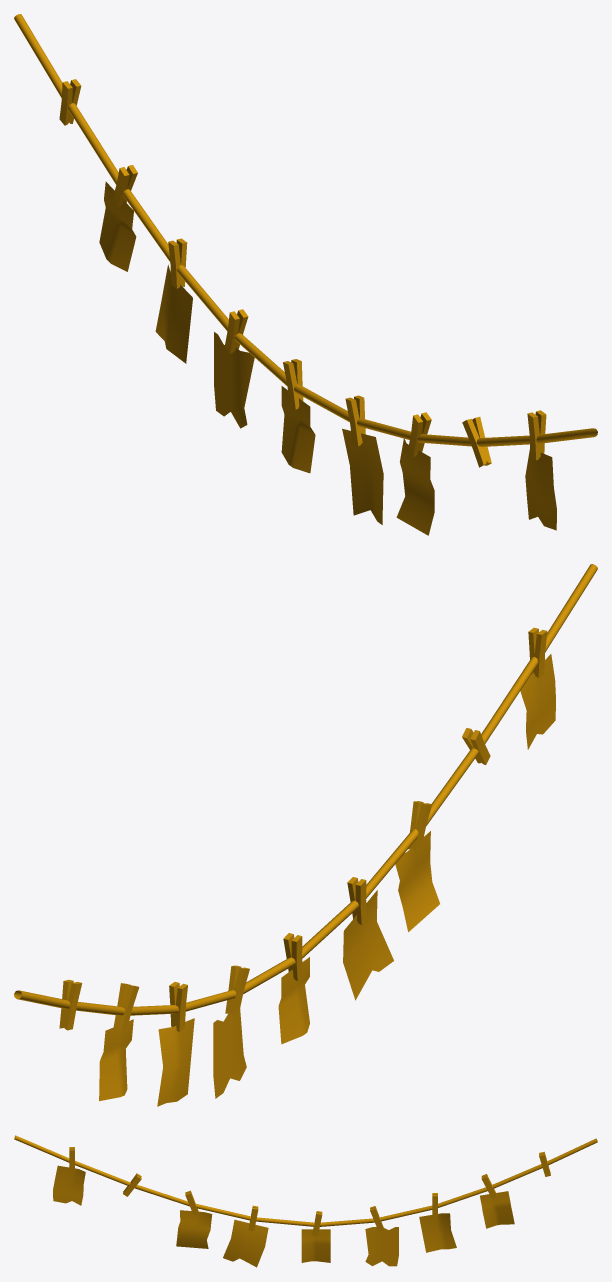
File: SM_HangingThing_A.fbx
3 views of the same model, one above another, from view 1: azimuth 30°, elevation 25°; view 2: azimuth 150°, elevation 25°; view 3: azimuth 270°, elevation 25° (orthographic). The views are drawn at different scales.
Visible parts, largest first — view 1: SM_HangingThing_A; view 2: SM_HangingThing_A; view 3: SM_HangingThing_A.
Part boxes in pixels (left/top/right/bottom): SM_HangingThing_A: left=14, top=14, right=597, bottom=535; SM_HangingThing_A: left=14, top=564, right=597, bottom=1106; SM_HangingThing_A: left=14, top=1135, right=597, bottom=1267.
Size of the model in its own units: 8.12 by 127 by 510.
